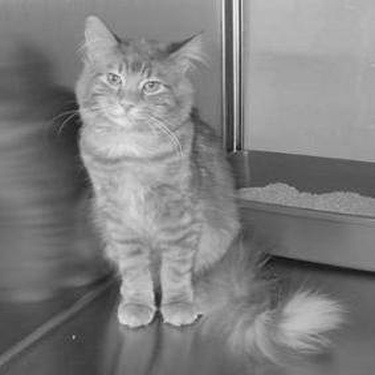cat: (74, 15, 343, 372)
